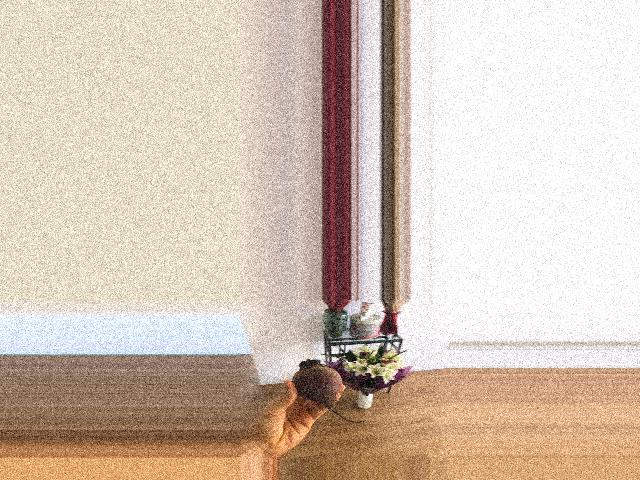beet: (292, 359, 365, 422)
